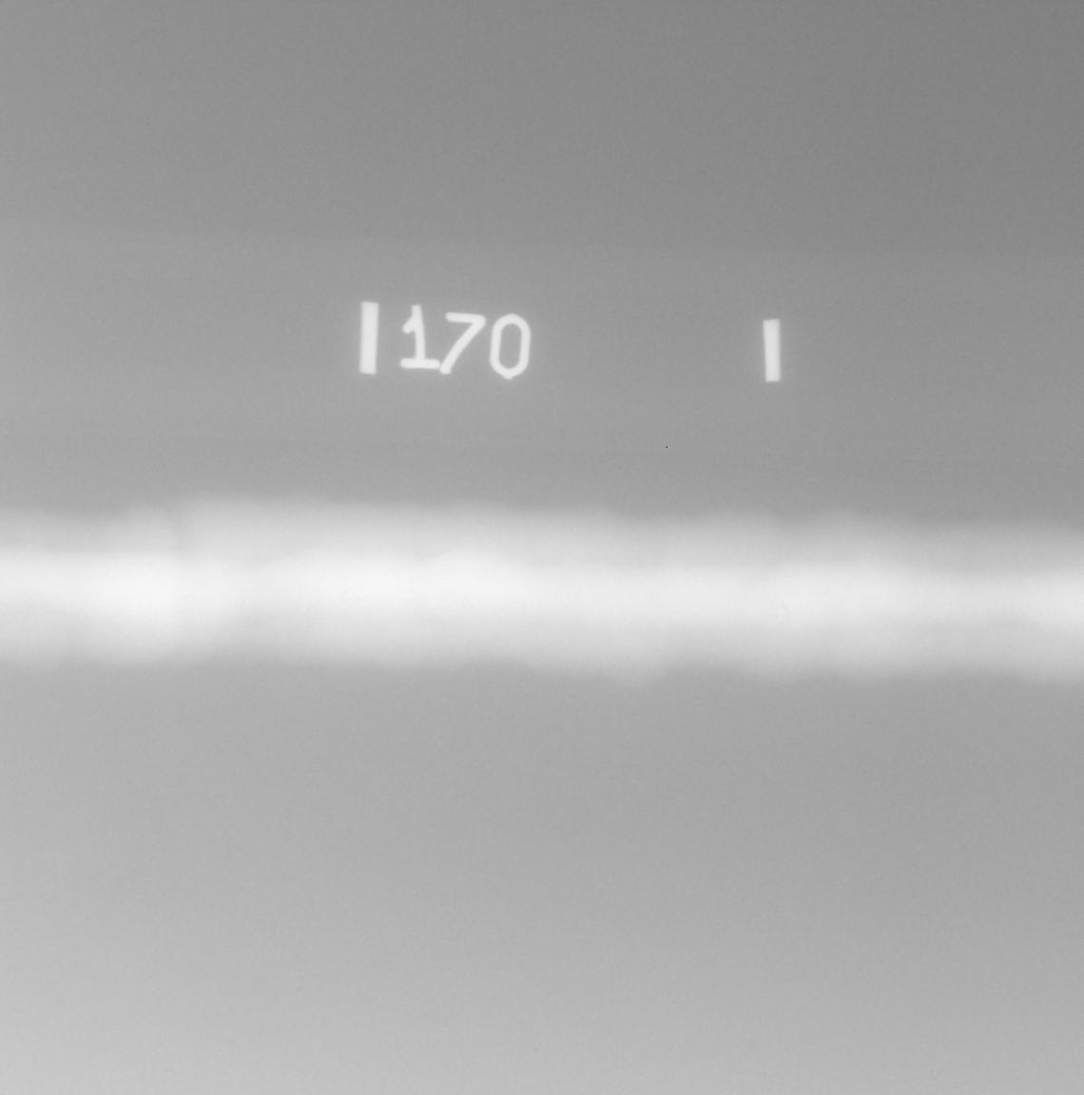Pore/Porosity: (781, 604, 789, 610), (762, 588, 767, 591)
